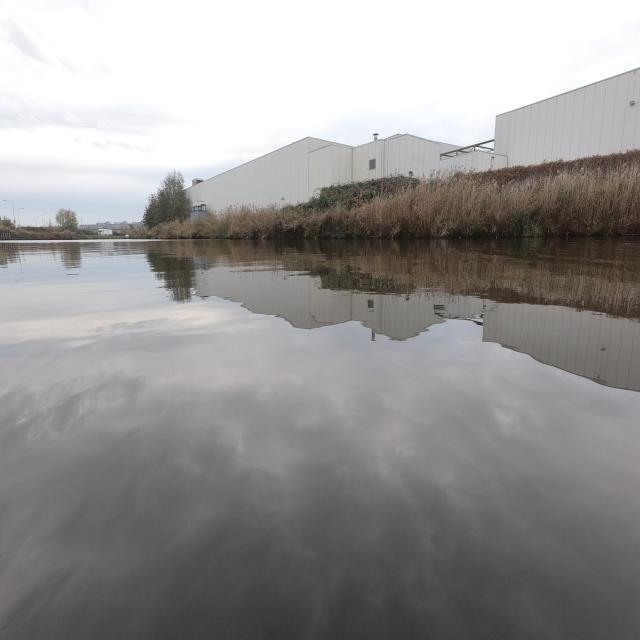reed: (138, 151, 640, 239)
sky: (1, 0, 638, 222)
water: (1, 236, 638, 639)
